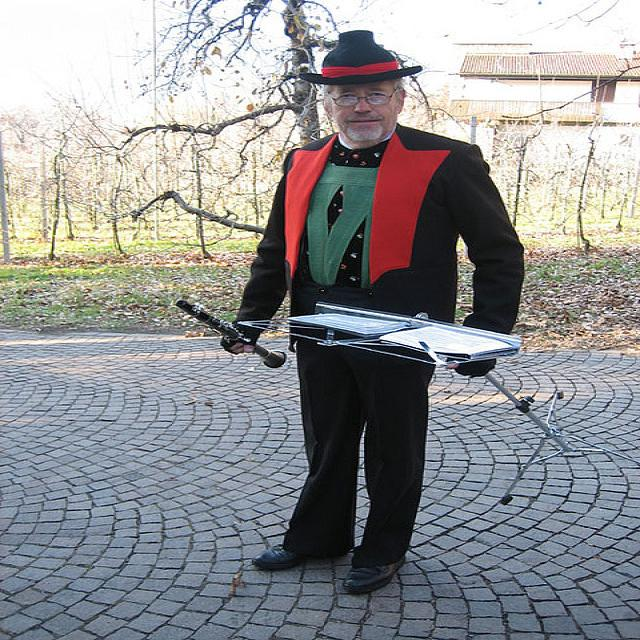clarinet: (164, 298, 290, 376)
